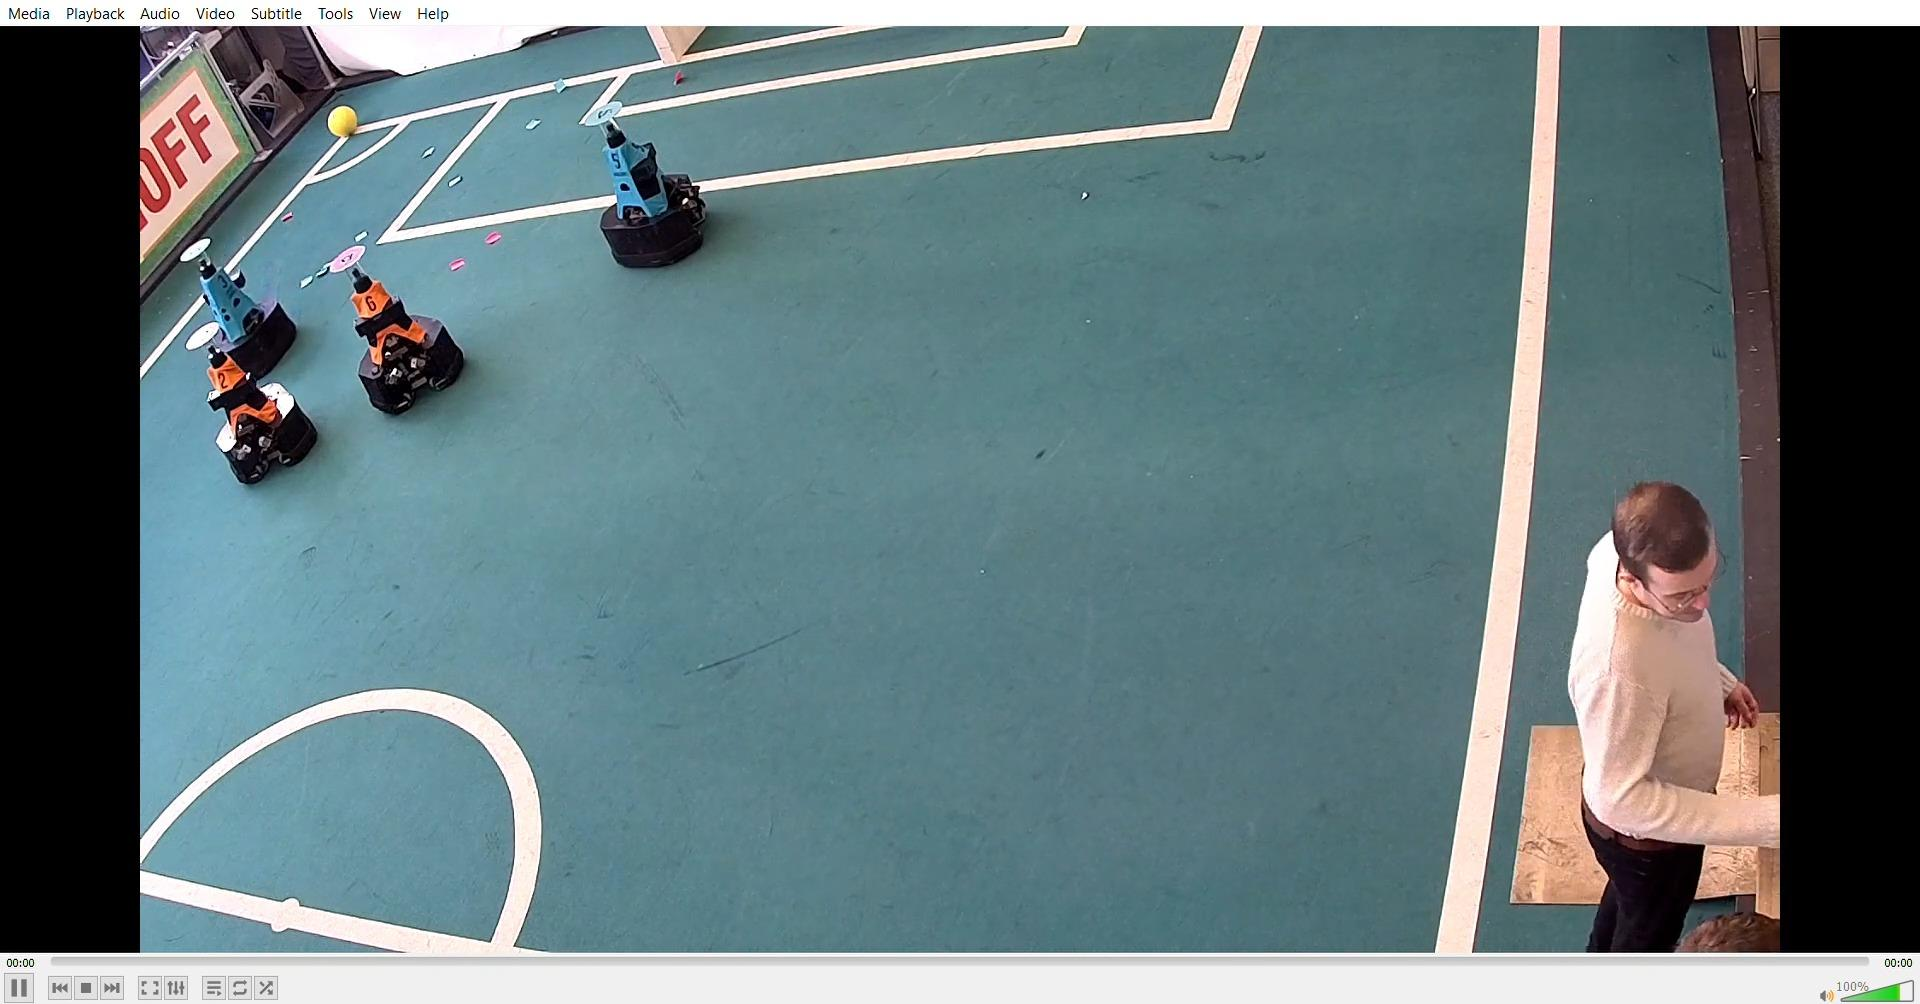Ball: (334, 104, 370, 137)
Team_Blue: (582, 90, 721, 273), (178, 235, 297, 372)
Team_Red: (320, 239, 465, 418), (178, 319, 316, 487)
